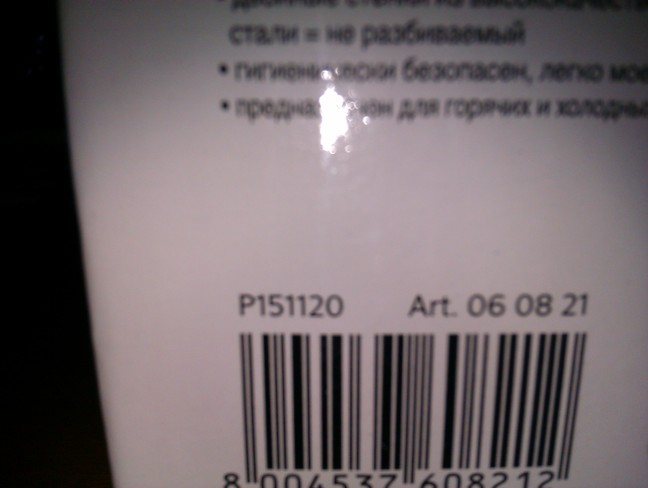detection: (178, 323, 604, 483)
